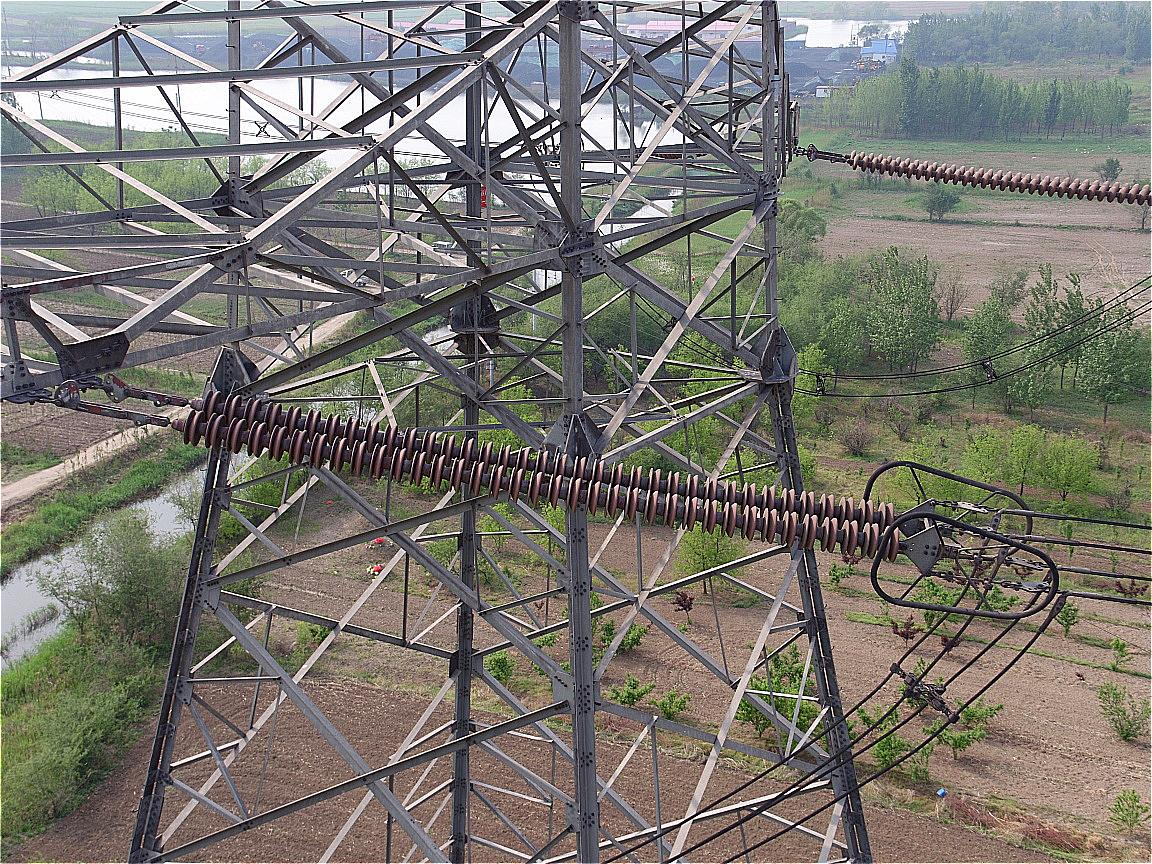insultor1: (853, 148, 1149, 215)
insultor2: (180, 389, 901, 563)
